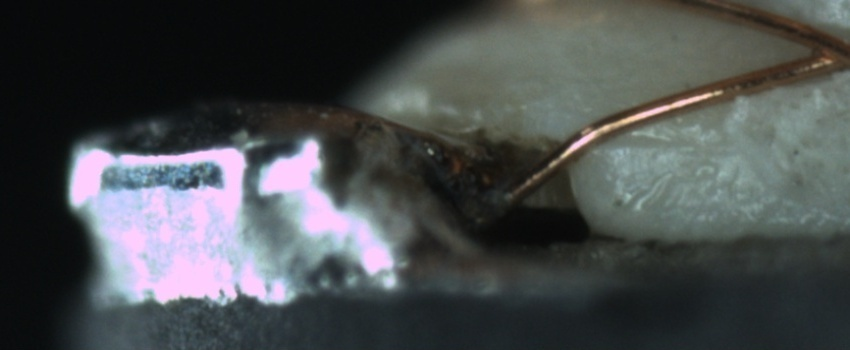CL: (778, 18, 850, 80)
DL: (599, 118, 726, 170)
